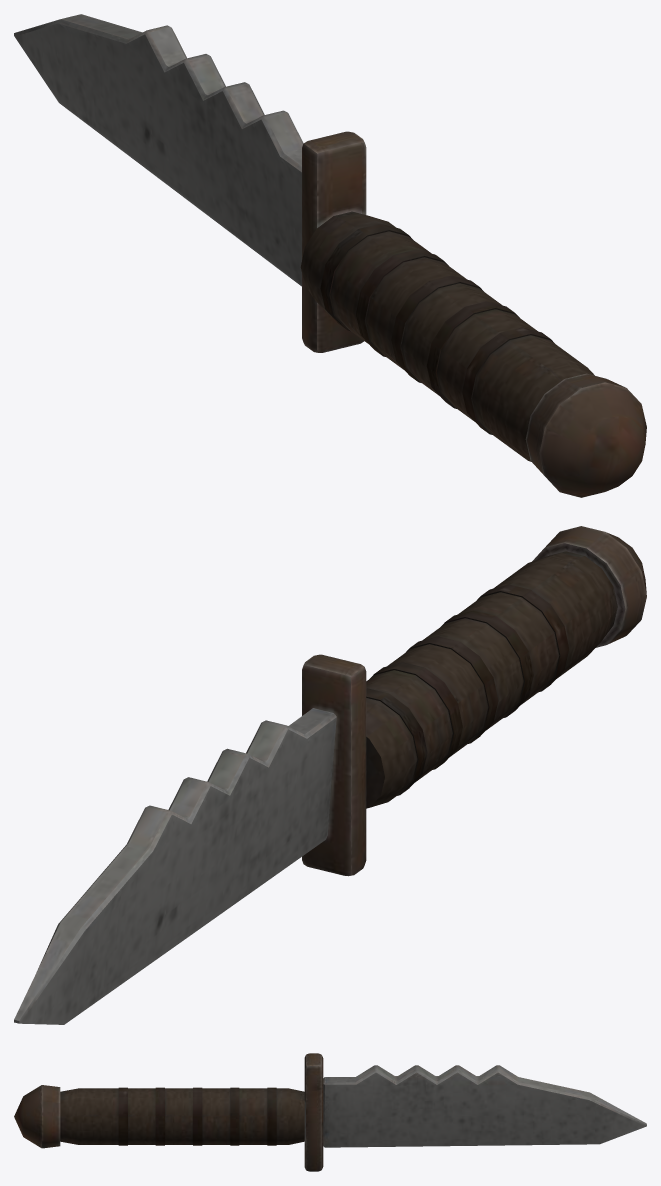
File: pighcib_knife_small.glb
3 renders of one model, top to bottom at view 1: azimuth 30°, elevation 25°; view 2: azimuth 150°, elevation 25°; view 3: azimuth 270°, elevation 25°, orthographic. The views are drawn at different scales.
Visible parts, largest first — view 1: pighcib_knife_small; view 2: pighcib_knife_small; view 3: pighcib_knife_small.
Boxes of the visible parts, x1,y1,x2,y2 form: pighcib_knife_small: [14, 14, 646, 497]; pighcib_knife_small: [14, 526, 646, 1024]; pighcib_knife_small: [14, 1053, 646, 1171].
Size of the model in its own units: 0.028 by 0.0512 by 0.2723.
1 material, 1 textured.
